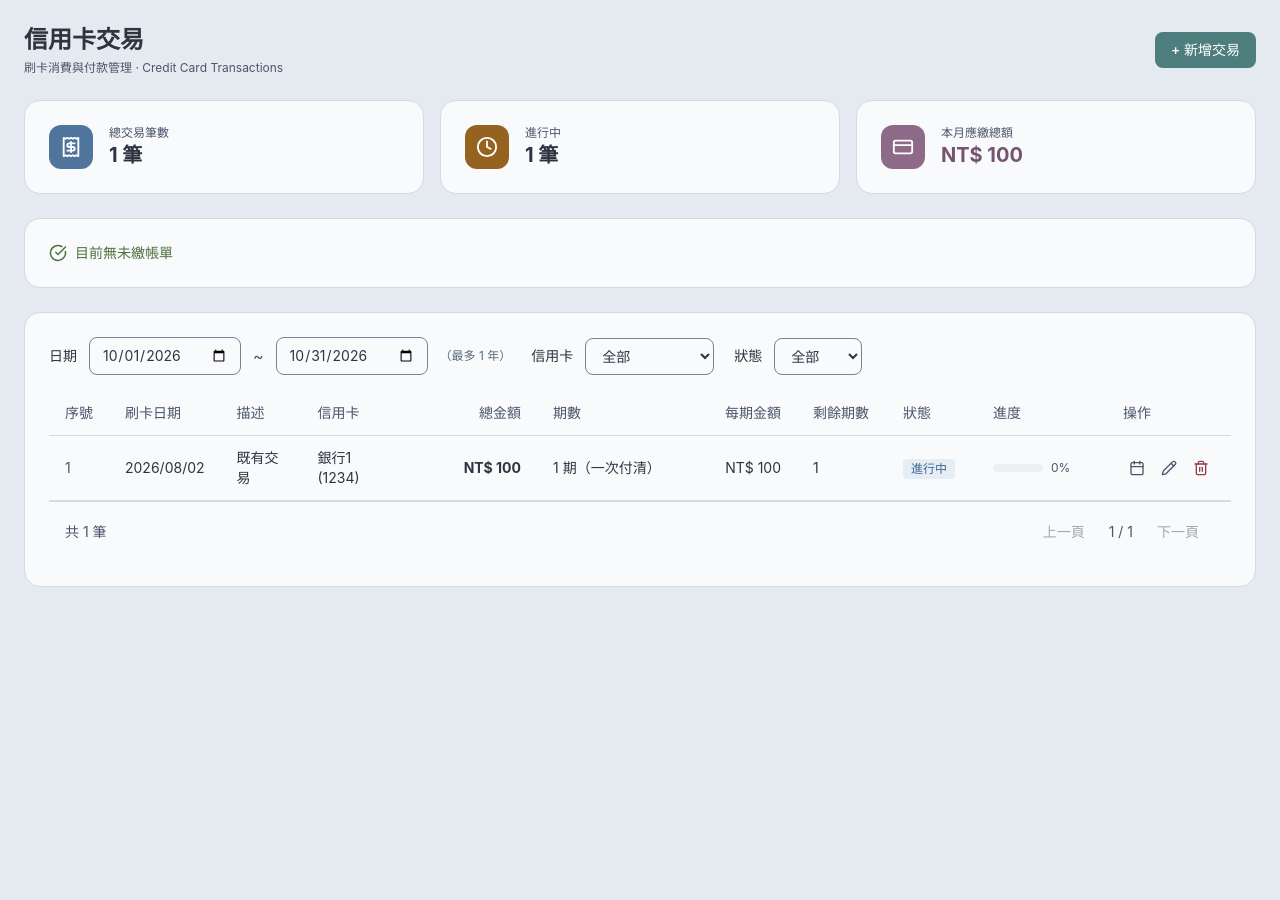
it: prefills the explicit default and reloads it for each new form
The width and height of the screenshot is (1280, 900).
Click the button "+ 新增交易": point(1205, 50) x1=1155 y1=32 x2=1256 y2=68
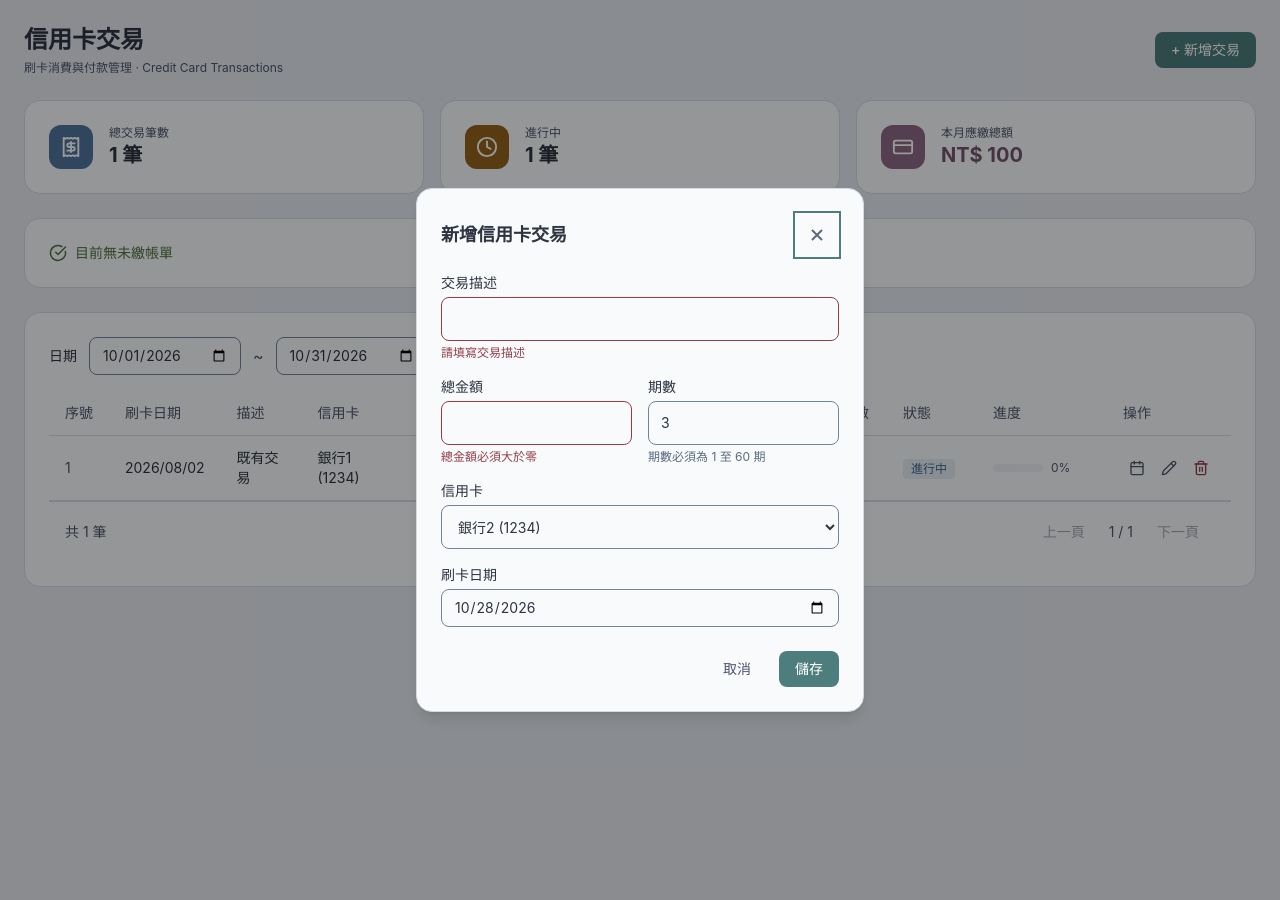
Result: the dropdown labelled "信用卡" shows "銀行2 (1234)"
Select "銀行1 (1234)" in the dropdown labelled "信用卡": point(640, 527) x1=441 y1=505 x2=839 y2=549
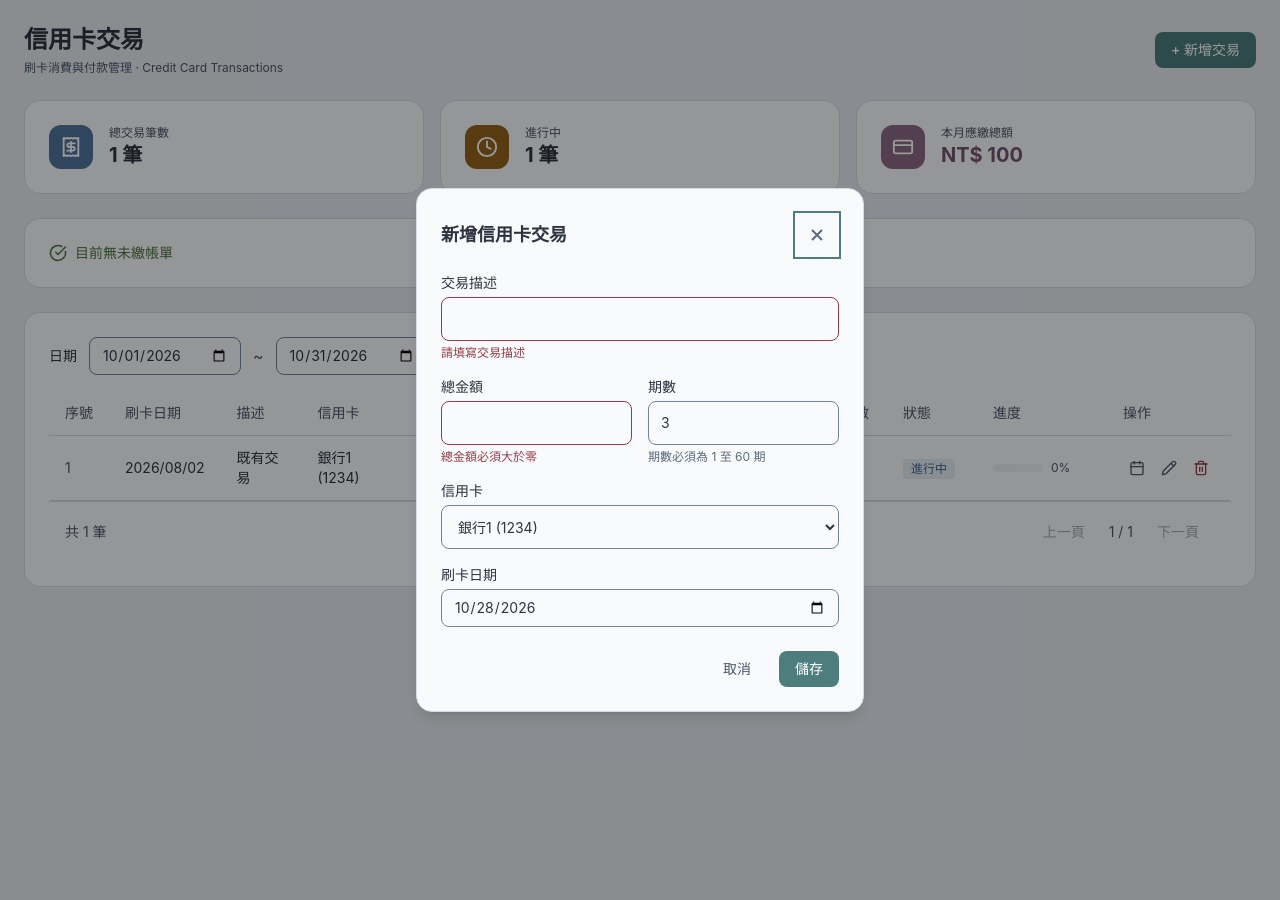
Click the button "取消": point(737, 669) x1=707 y1=651 x2=767 y2=687
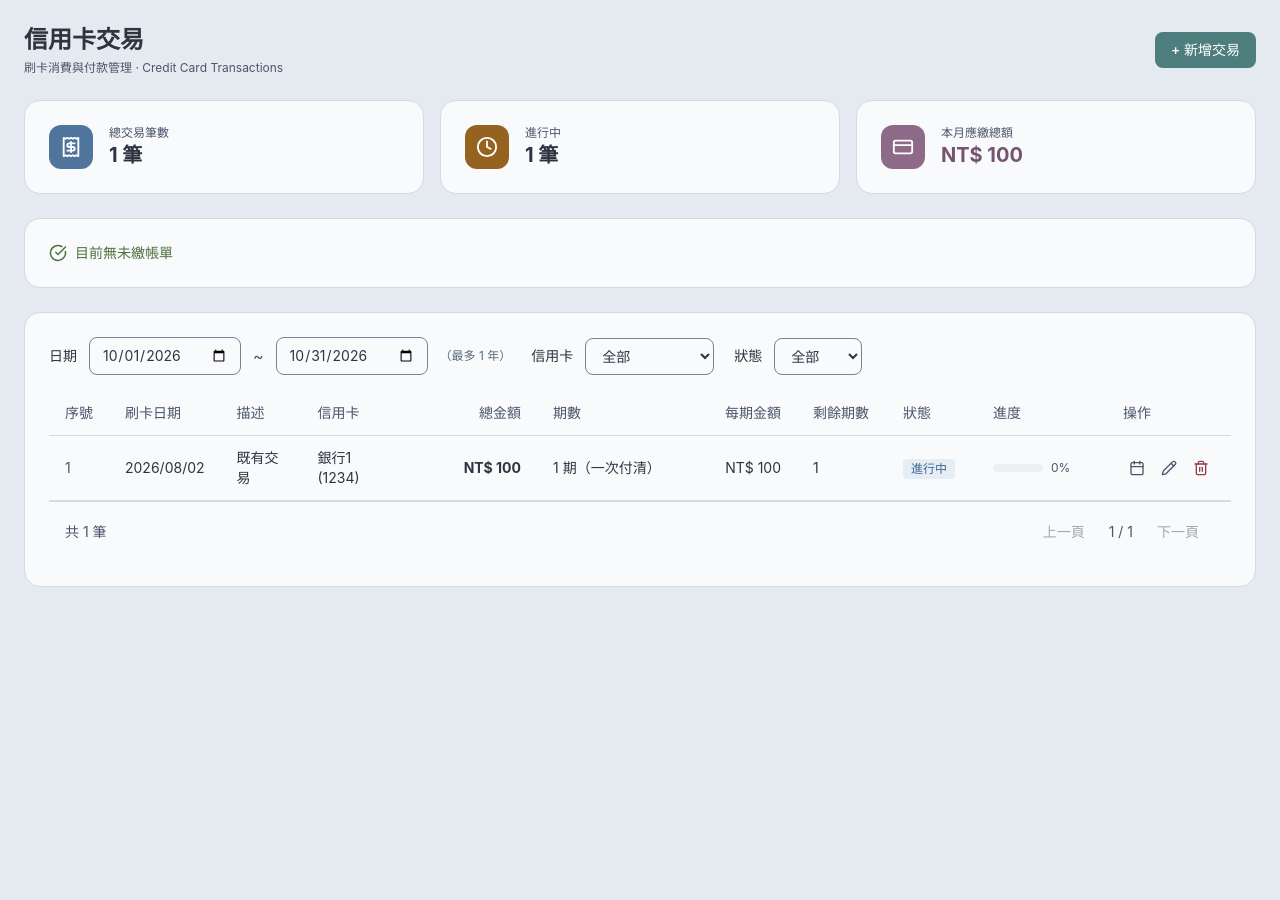
Click the button "+ 新增交易": point(1205, 50) x1=1155 y1=32 x2=1256 y2=68
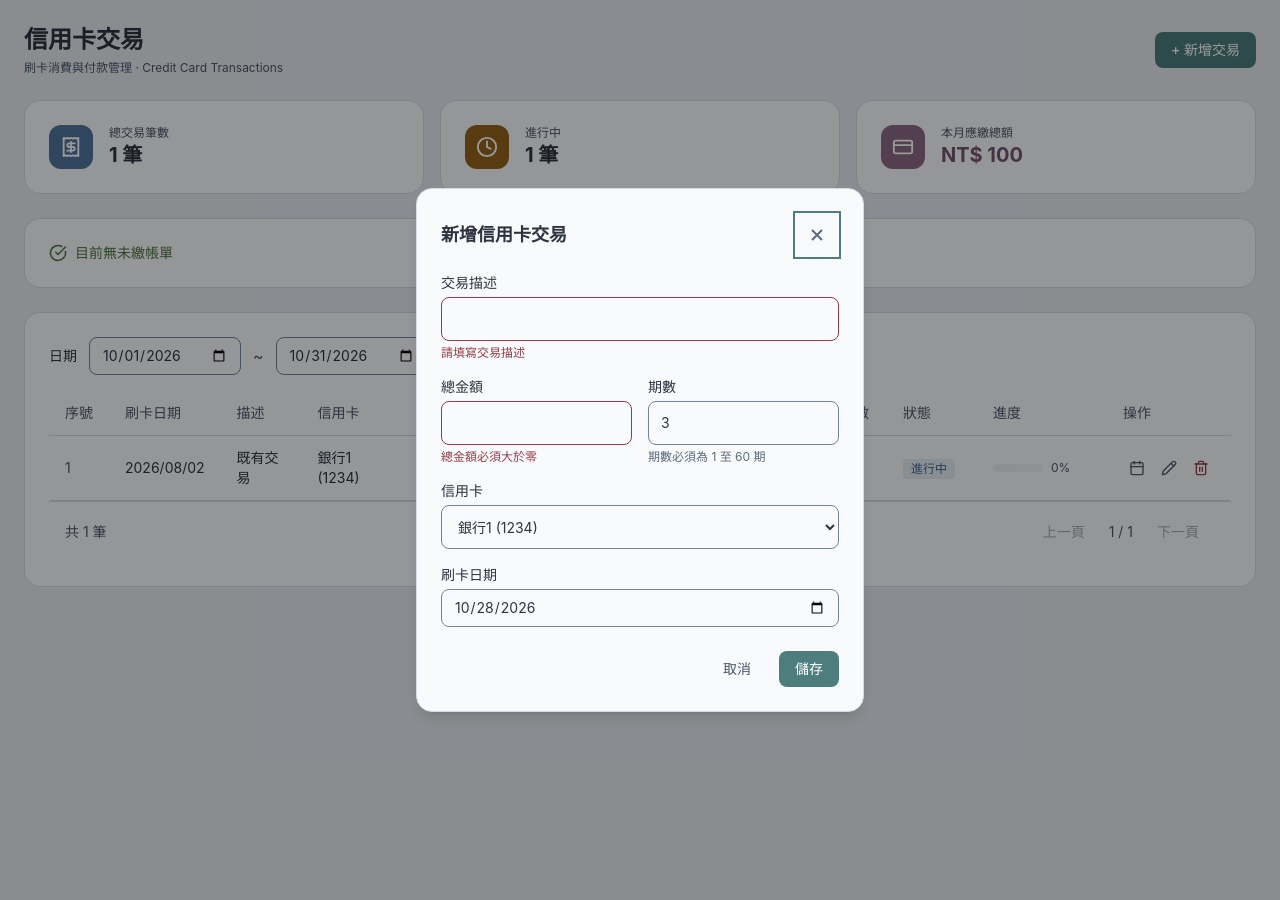
Result: the dropdown labelled "信用卡" shows "銀行1 (1234)" at x1=441 y1=505 x2=839 y2=549
